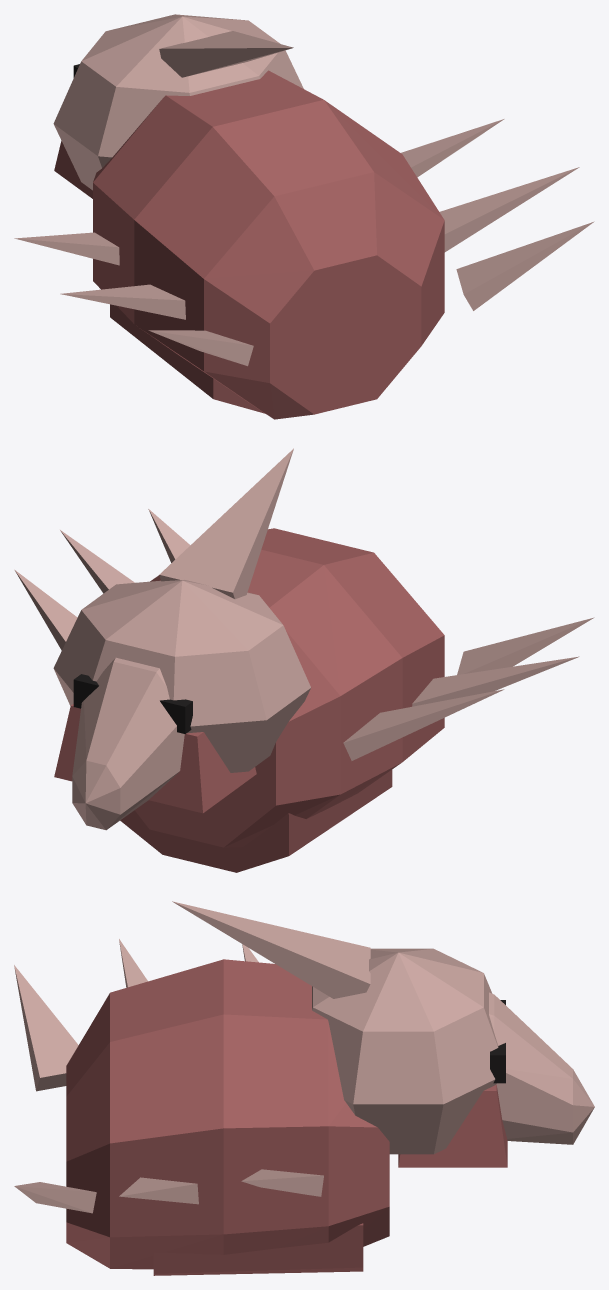
The model's file is animal_dryad_clawer.obj.
3 renders of one model, top to bottom at view 1: azimuth 30°, elevation 25°; view 2: azimuth 150°, elevation 25°; view 3: azimuth 270°, elevation 25°, orthographic.
Visible parts, largest first — view 1: animal_dryad_clawer; view 2: animal_dryad_clawer; view 3: animal_dryad_clawer.
Part boxes in pixels (bbox=[...]): animal_dryad_clawer: bbox=[14, 14, 594, 419]; animal_dryad_clawer: bbox=[14, 448, 594, 872]; animal_dryad_clawer: bbox=[14, 901, 594, 1275].
Bounding box in the file's own units: 1.02 × 0.6553 × 0.9683.
